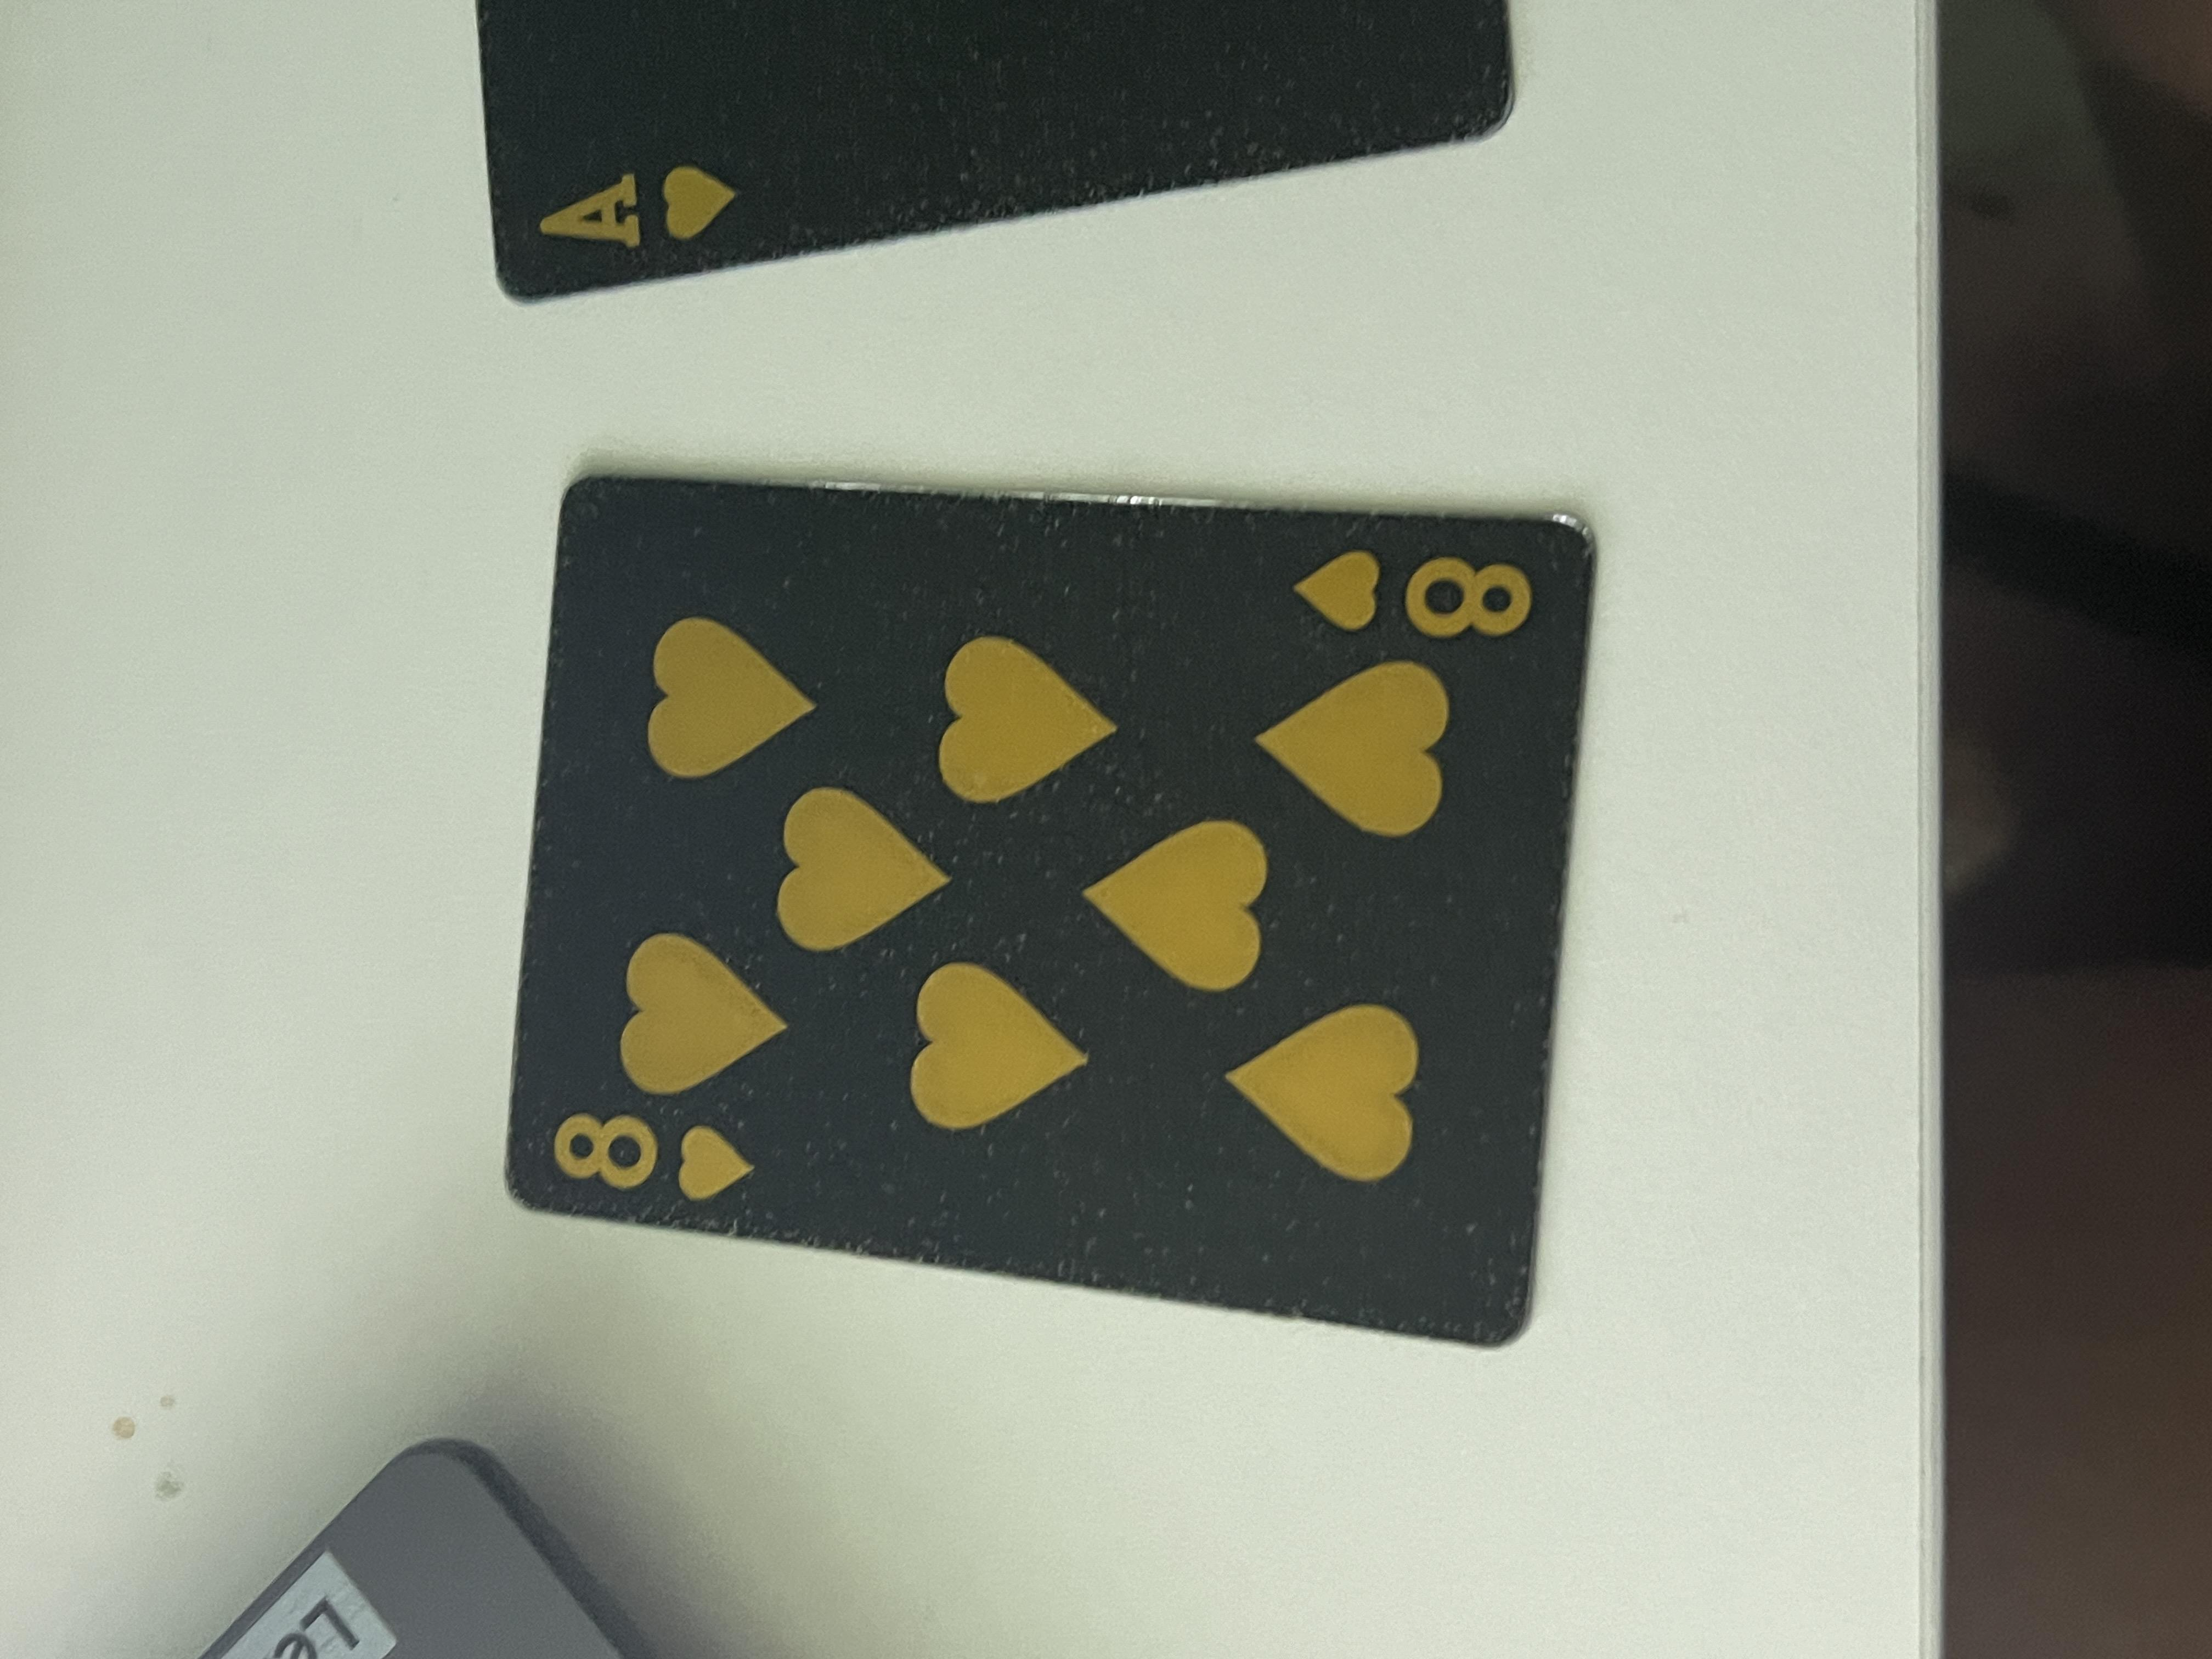8H: (1339, 957, 1510, 1166), (599, 397, 732, 582)
AH: (1858, 383, 2022, 559)
